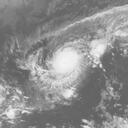cyclone: (42, 40, 88, 88)
